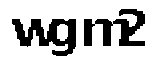2: (116, 7, 148, 49)
g: (50, 15, 81, 60)
m: (81, 17, 130, 50)
w: (10, 15, 52, 49)
